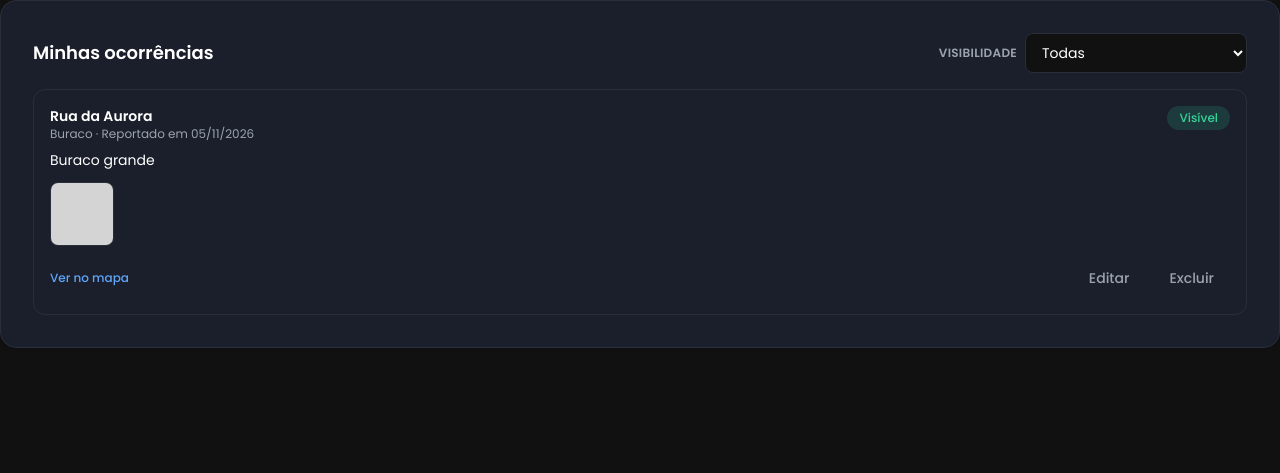
MinhasOcorrencias › enquanto as categorias carregam, mantém a categoria atual como opção do select
Expected: the heading "Rua da Aurora" is shown, [50,106,152,126]
Click the button "Editar".
click(1109, 278)  # box [1073,258,1145,298]
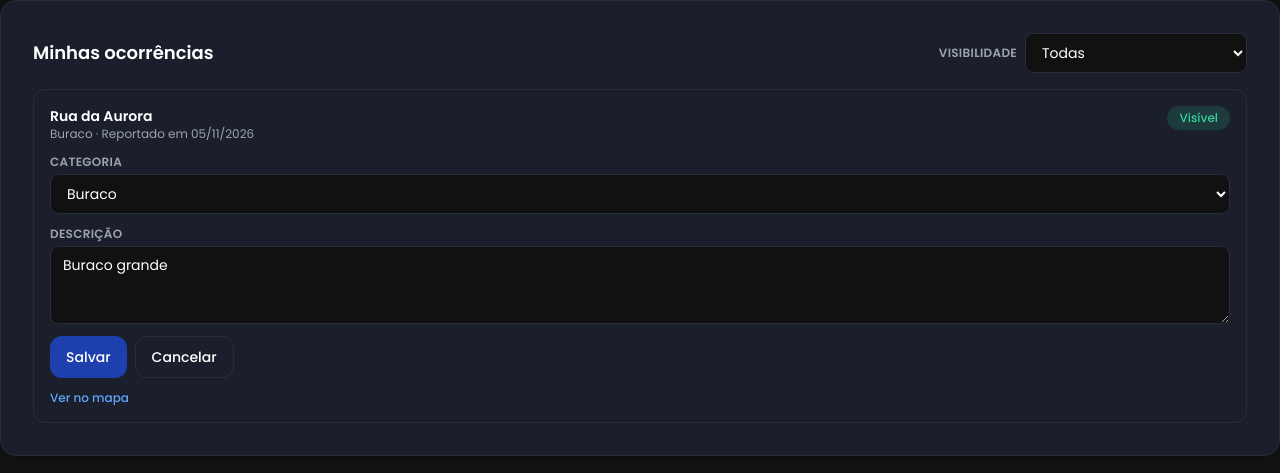
Expected: the dropdown labelled "Categoria" shows "Buraco", [50,174,1230,214]
